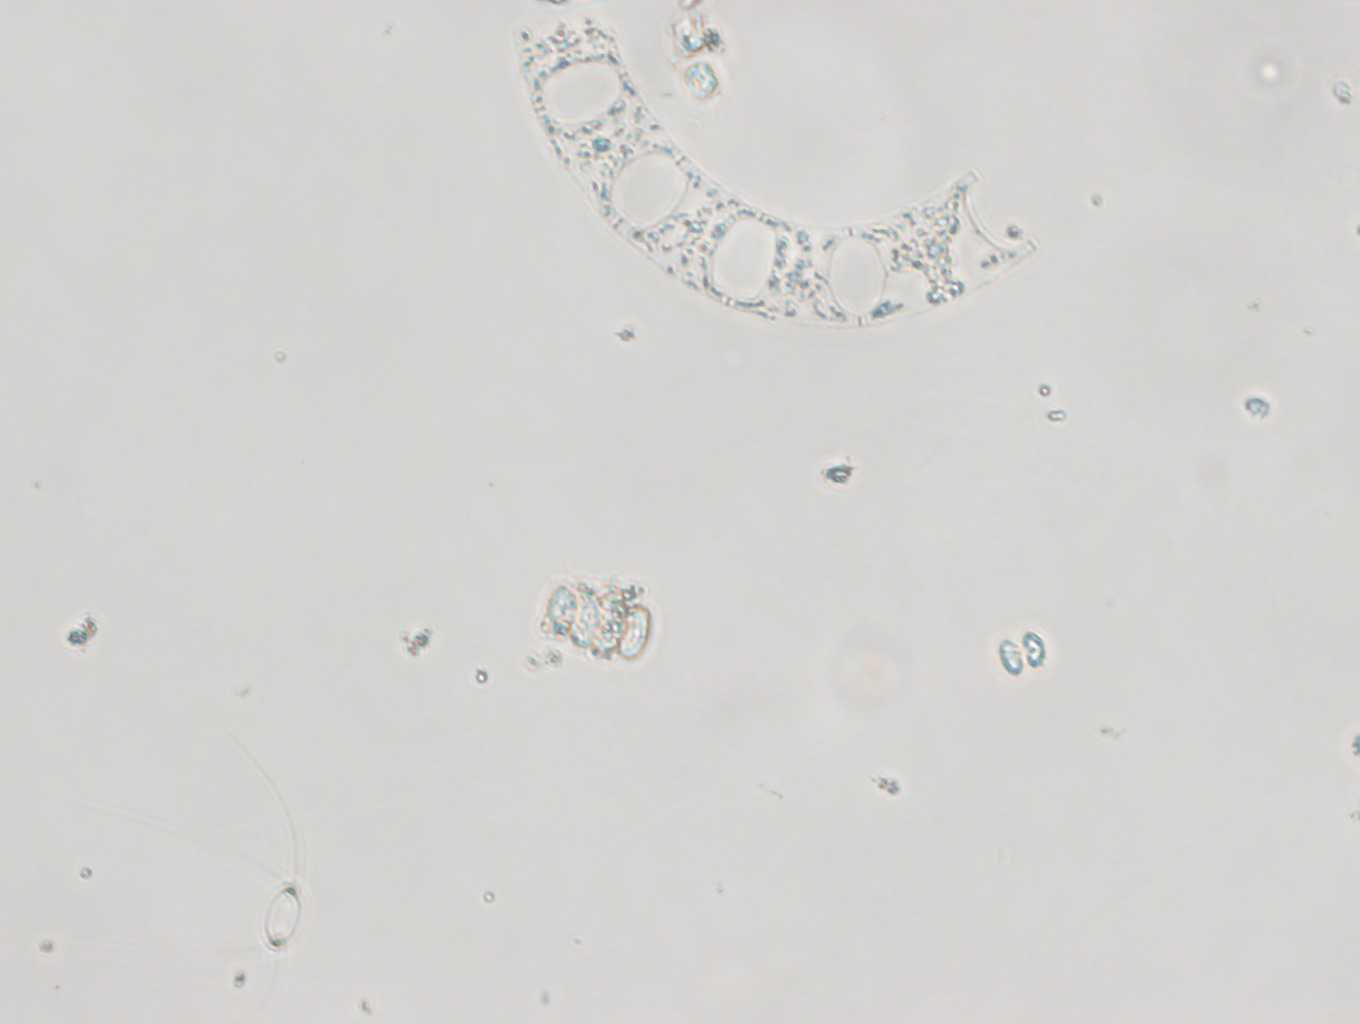eucampia: (514, 11, 1037, 328)
